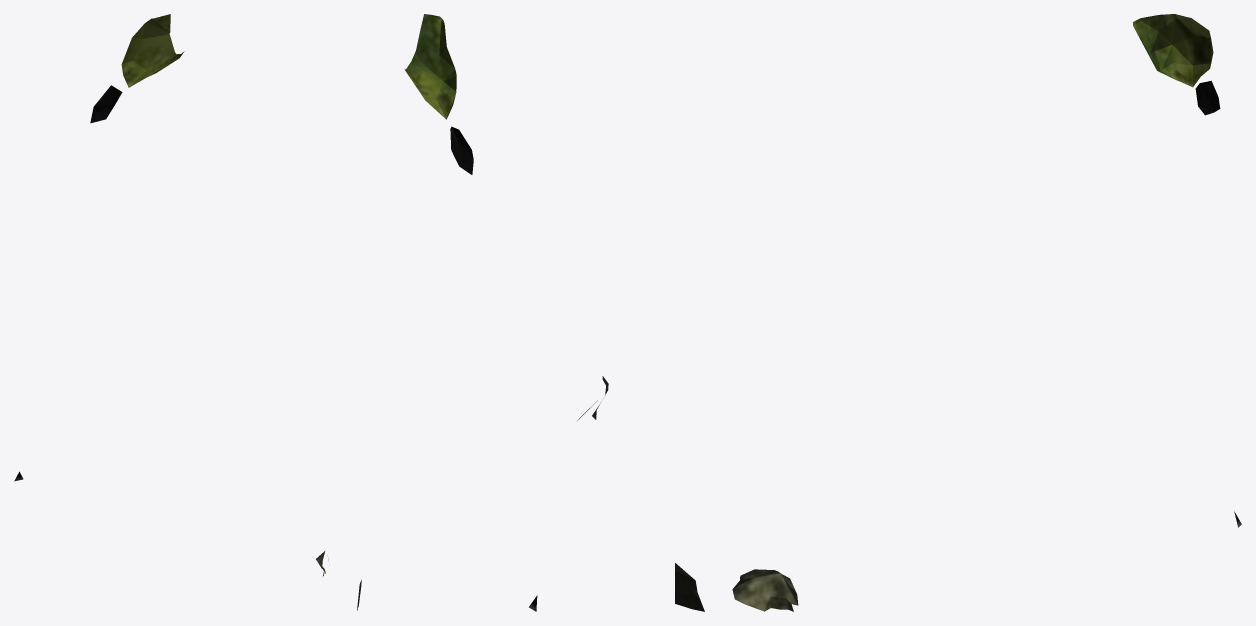
The picture shows the model from 3 angles, left to right: view 1: azimuth 30°, elevation 25°; view 2: azimuth 150°, elevation 25°; view 3: azimuth 270°, elevation 25°; orthographic projection. The views are drawn at different scales.
Size of the model in its own units: 1.88 by 5.9 by 5.2.
1 material, 1 textured.
